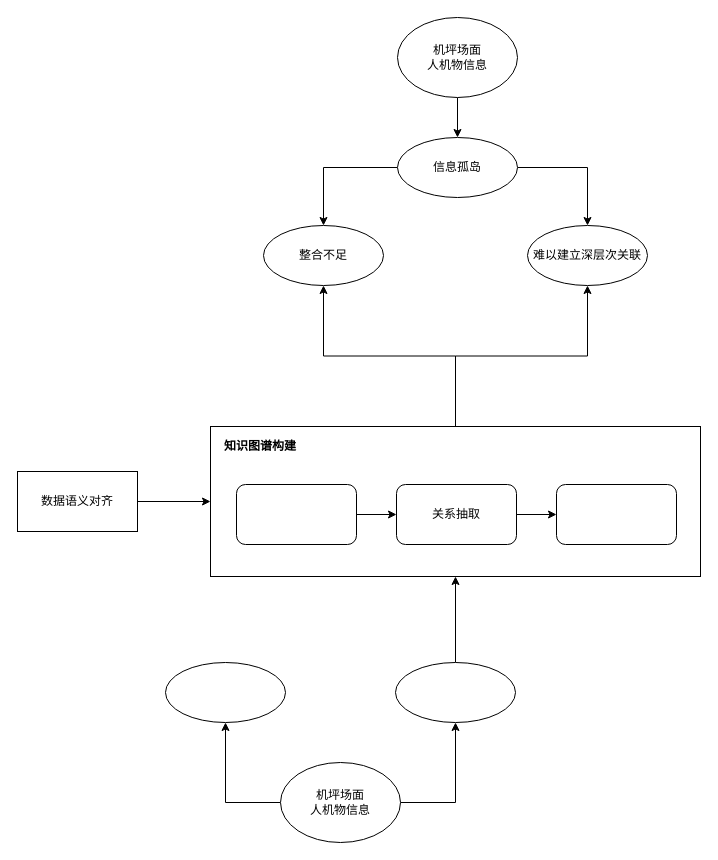
The diagram is 718 pixels wide and 860 high, and some of its shapes have lost their labels. Here are the shapes that lost their labels. From the top down, the centre of each, then its label:
At pixel 296 514: "命名实体识别".
At pixel 616 514: "实体对齐".
At pixel 225 692: "准确表示".
At pixel 455 692: "有效联合".
